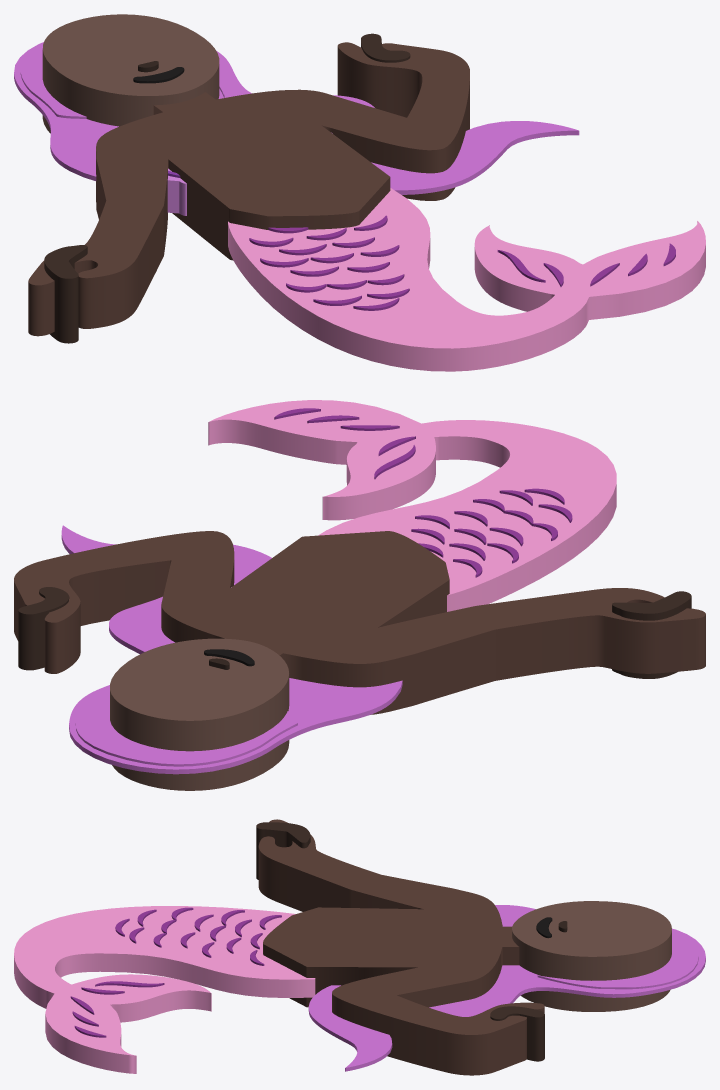
File: emoji_u1f9dc_1f3ff_200d_2640.glb
3 views of the same model, one above another, from view 1: azimuth 30°, elevation 25°; view 2: azimuth 150°, elevation 25°; view 3: azimuth 270°, elevation 25° (orthographic). The views are drawn at different scales.
Visible parts, largest first — view 1: emoji_u1f9dc_1f3ff_200d_2640; view 2: emoji_u1f9dc_1f3ff_200d_2640; view 3: emoji_u1f9dc_1f3ff_200d_2640.
Boxes of the visible parts, left/top/right/bottom form: emoji_u1f9dc_1f3ff_200d_2640: left=14, top=14, right=705, bottom=371; emoji_u1f9dc_1f3ff_200d_2640: left=14, top=400, right=705, bottom=790; emoji_u1f9dc_1f3ff_200d_2640: left=14, top=819, right=705, bottom=1075.
Bounding box in the file's own units: 0.0268 × 0.0034 × 0.0341.
